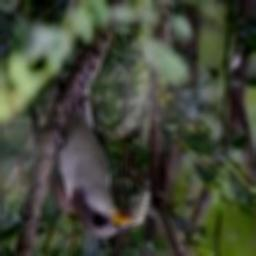Cuckoo: (31, 96, 135, 238)
